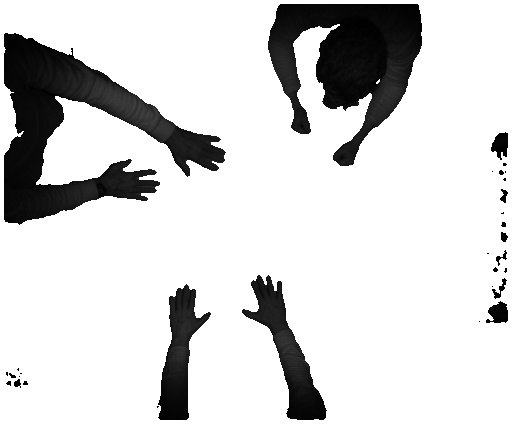fist: (328, 142, 362, 167), (288, 111, 311, 135)
hand: (240, 275, 293, 333), (172, 132, 230, 183), (168, 282, 215, 340), (103, 160, 159, 207)
